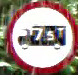Heavy Vehicles: (7, 0, 77, 74)
